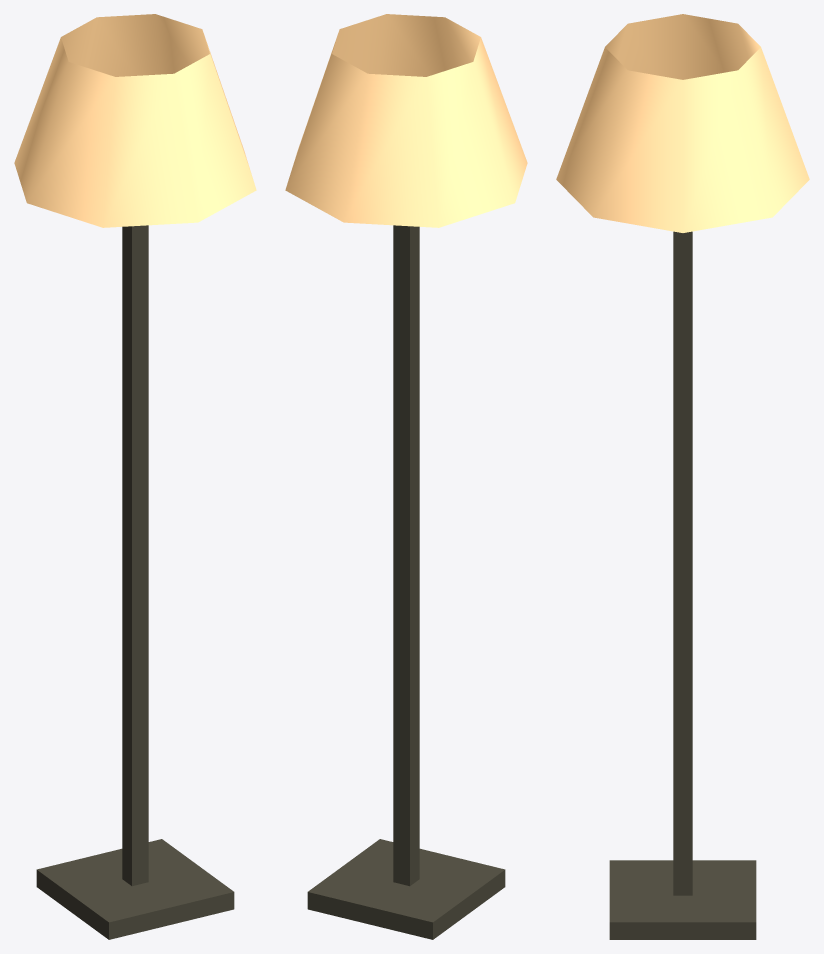
File: lamp.glb
The picture shows the model from 3 angles, left to right: view 1: azimuth 30°, elevation 25°; view 2: azimuth 150°, elevation 25°; view 3: azimuth 270°, elevation 25°; orthographic projection.
Parts seen in each view (by area): view 1: lamp; view 2: lamp; view 3: lamp.
Boxes of the visible parts, left/top/right/bottom form: lamp: left=14, top=14, right=256, bottom=939; lamp: left=285, top=14, right=527, bottom=939; lamp: left=556, top=14, right=809, bottom=939.
Size of the model in its own units: 0.52 by 1.95 by 0.52.
